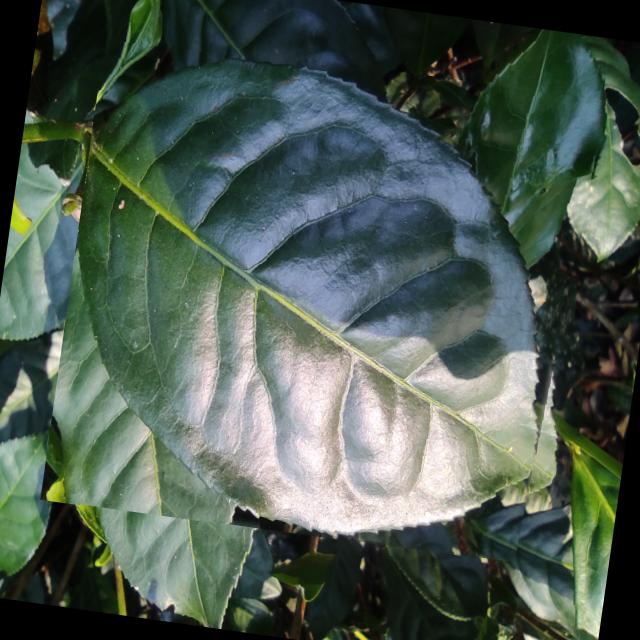Category D(7+ days, Not for Tea): (40, 29, 608, 570)
